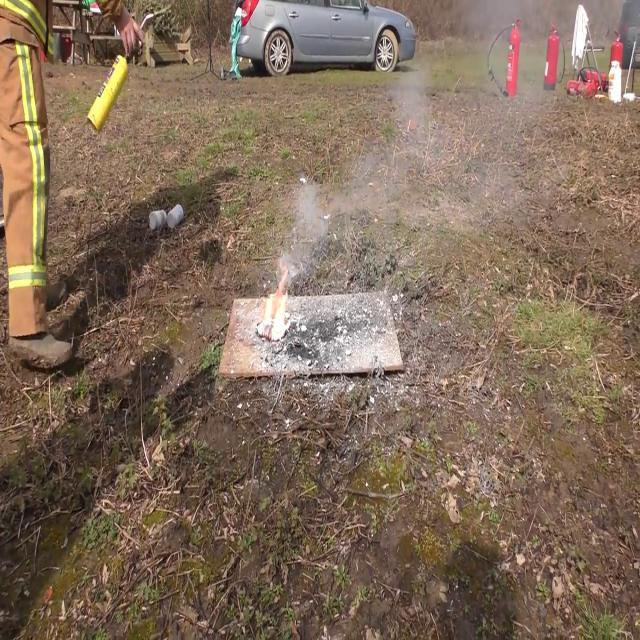Fire: (259, 278, 292, 341)
Smoke: (276, 170, 340, 284)
